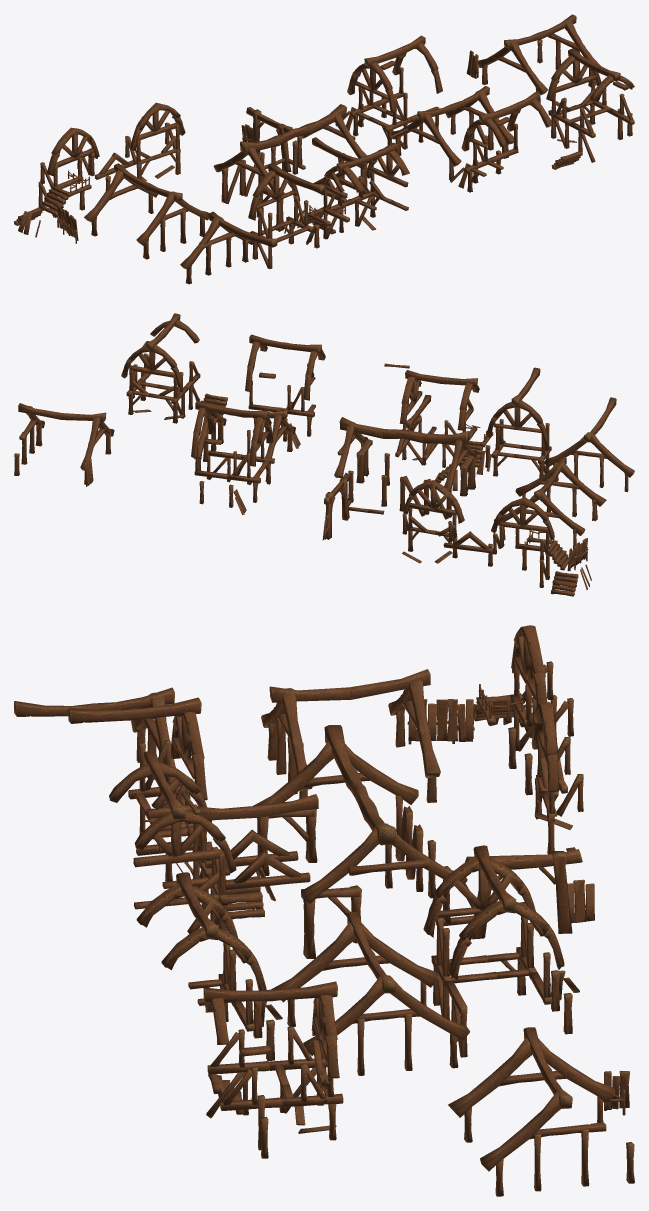
Rendered from WoodBlock2.FBX.
3 renders of one model, top to bottom at view 1: azimuth 30°, elevation 25°; view 2: azimuth 150°, elevation 25°; view 3: azimuth 270°, elevation 25°, orthographic. The views are drawn at different scales.
Visible parts, largest first — view 1: Object3863; view 2: Object3863; view 3: Object3863.
Boxes of the visible parts, <box> form: Object3863: <box>14,14,634,284</box>; Object3863: <box>14,313,634,596</box>; Object3863: <box>14,625,634,1196</box>.
Bounding box in the file's own units: 219 × 35.86 × 117.
